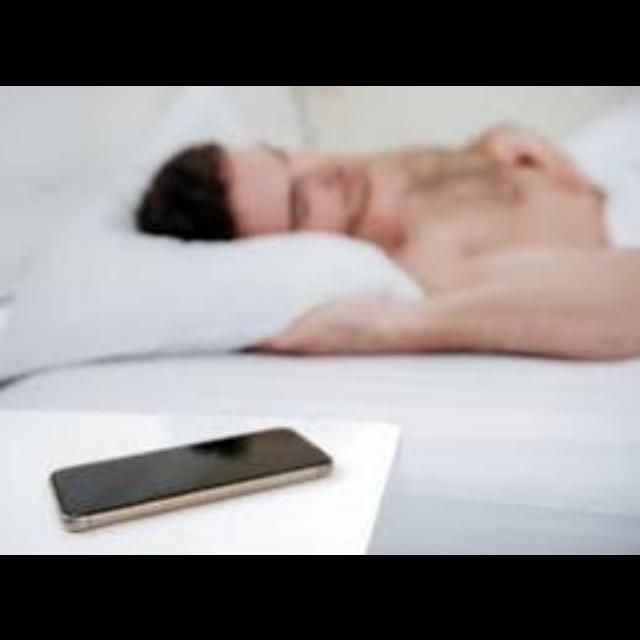Phone: (47, 420, 353, 530)
